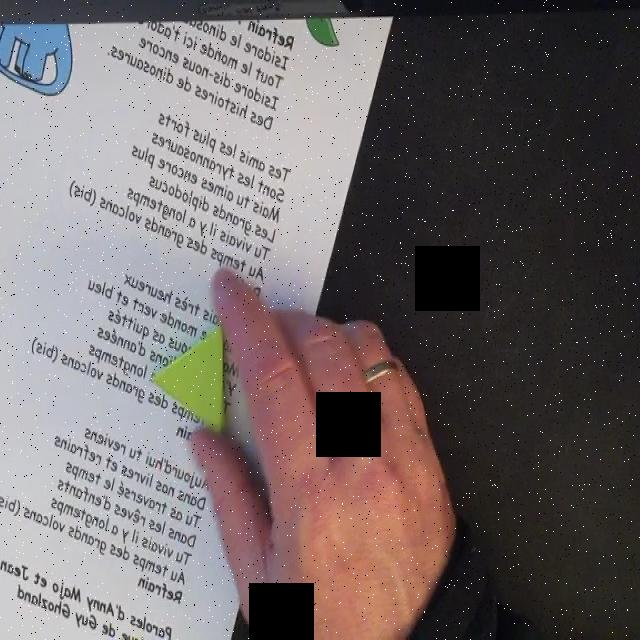triangle: (154, 322, 226, 432)
